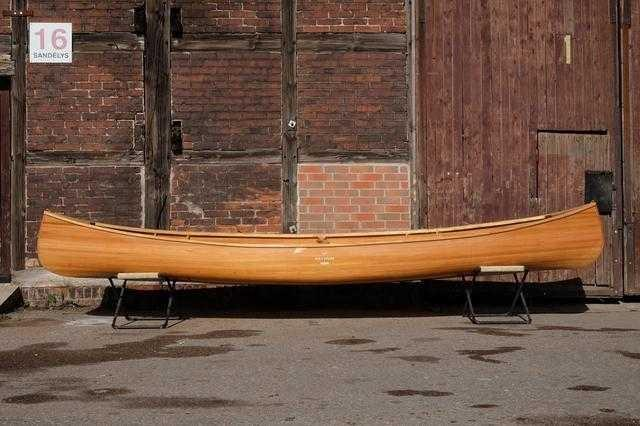kayak: (36, 207, 608, 292)
